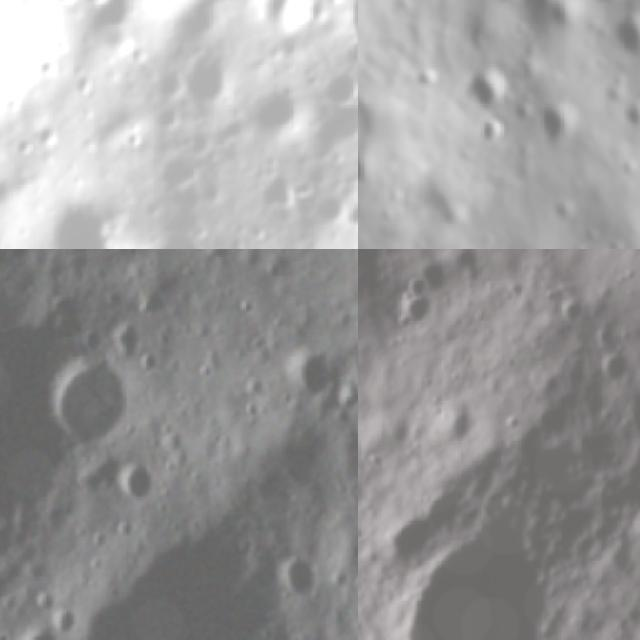crater: (390, 512, 587, 640), (30, 349, 138, 444), (28, 191, 140, 249), (171, 34, 247, 110), (240, 76, 314, 147), (189, 0, 315, 32), (534, 93, 590, 154), (459, 60, 522, 114), (272, 555, 332, 606), (281, 350, 334, 403), (311, 60, 358, 119), (434, 403, 484, 458), (141, 218, 221, 249), (250, 0, 315, 38), (394, 294, 446, 339), (303, 181, 346, 233), (113, 453, 155, 506), (607, 3, 640, 66), (434, 189, 474, 232), (594, 347, 634, 389), (472, 108, 508, 147), (66, 0, 120, 23), (334, 189, 358, 240), (22, 590, 59, 618), (616, 92, 640, 135), (53, 609, 89, 635), (134, 352, 160, 378), (236, 297, 262, 321), (10, 628, 57, 640), (194, 355, 213, 379), (325, 574, 350, 590), (239, 405, 256, 426)
